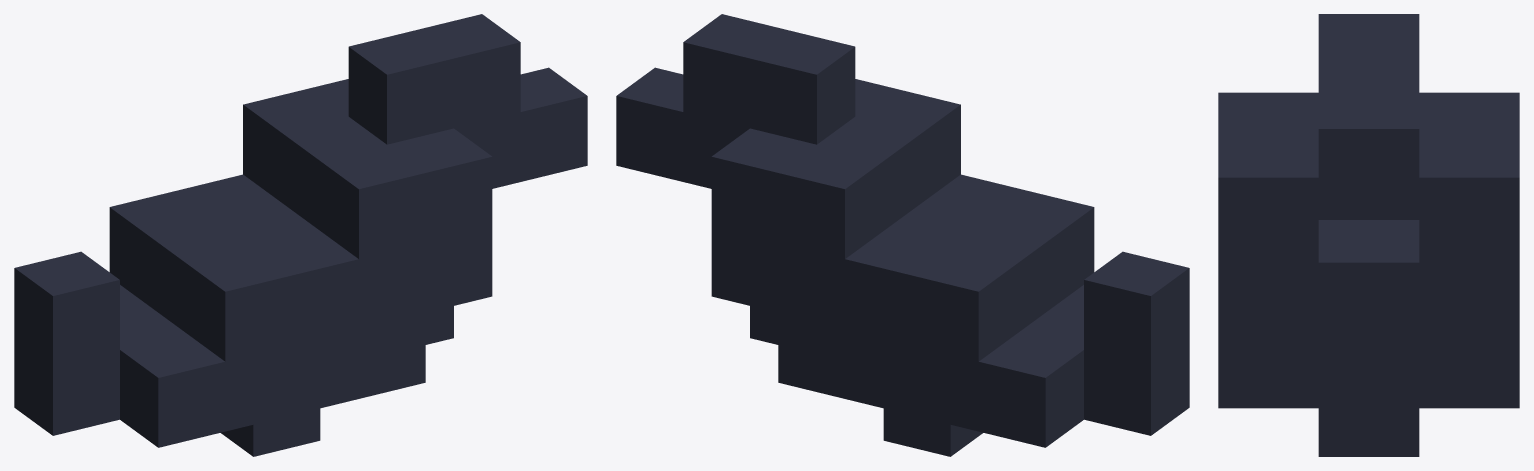
Rendered from raven.obj.
3 renders of one model, left to right at view 1: azimuth 30°, elevation 25°; view 2: azimuth 150°, elevation 25°; view 3: azimuth 270°, elevation 25°, orthographic. The views are drawn at different scales.
Parts seen in each view (by area): view 1: Raven; view 2: Raven; view 3: Raven.
Boxes of the visible parts, <box> form: Raven: <box>14,14,587,456</box>; Raven: <box>616,14,1189,456</box>; Raven: <box>1218,14,1519,456</box>.
Bounding box in the file's own units: 0.8 × 0.5 × 0.3.
Materials: 1 (1 with a texture image).
